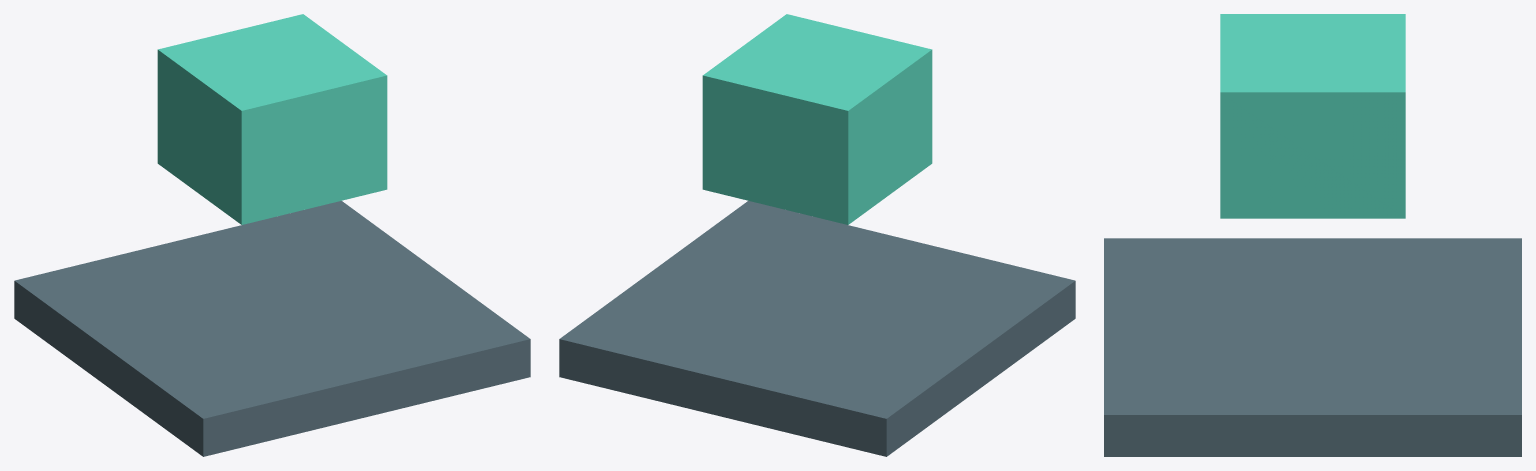
The model's file is p0_probe.glb.
3 views of the same model, side by side, from view 1: azimuth 30°, elevation 25°; view 2: azimuth 150°, elevation 25°; view 3: azimuth 270°, elevation 25° (orthographic). The views are drawn at different scales.
Visible parts, largest first — view 1: Base, Bob; view 2: Base, Bob; view 3: Base, Bob.
Part boxes in pixels (x1,y1,x2,y2): Base: [14, 201, 530, 456]; Bob: [157, 14, 387, 224]; Base: [559, 201, 1075, 456]; Bob: [702, 14, 932, 224]; Base: [1104, 238, 1521, 456]; Bob: [1220, 14, 1405, 218].
Bounding box in the file's own units: 1.8 × 1.5 × 1.8.
